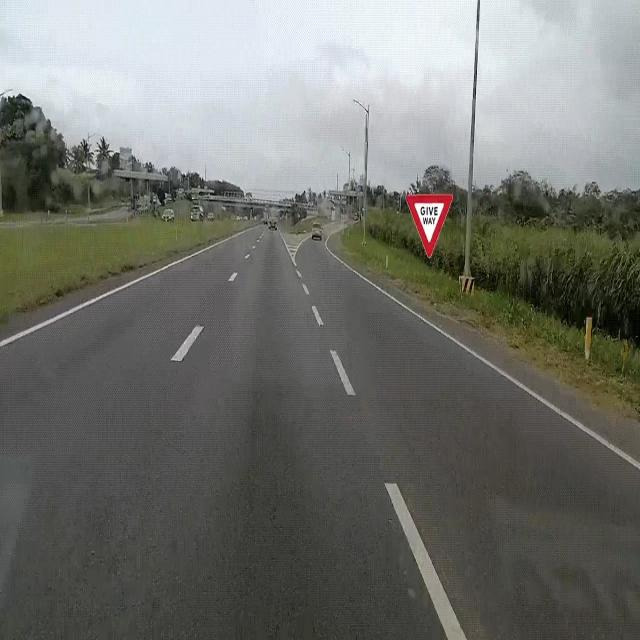Ceder-le-Passage: (405, 187, 455, 260)
